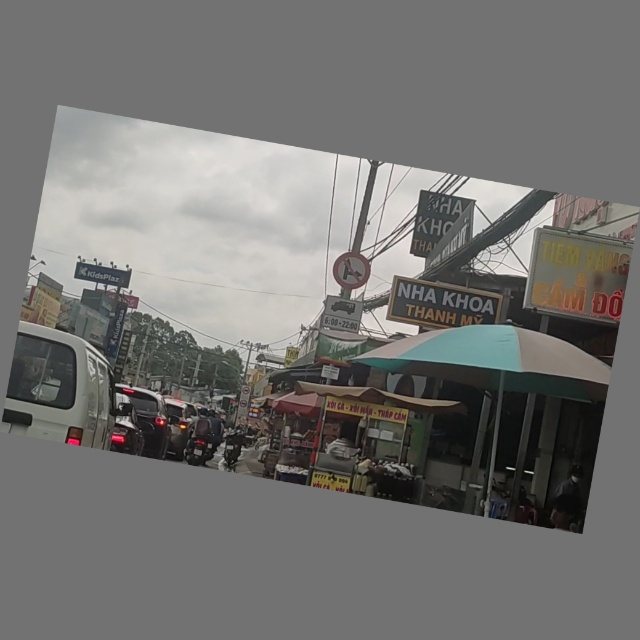P.139: (331, 250, 373, 291)
S.505a*Xe tai: (323, 296, 362, 332)
